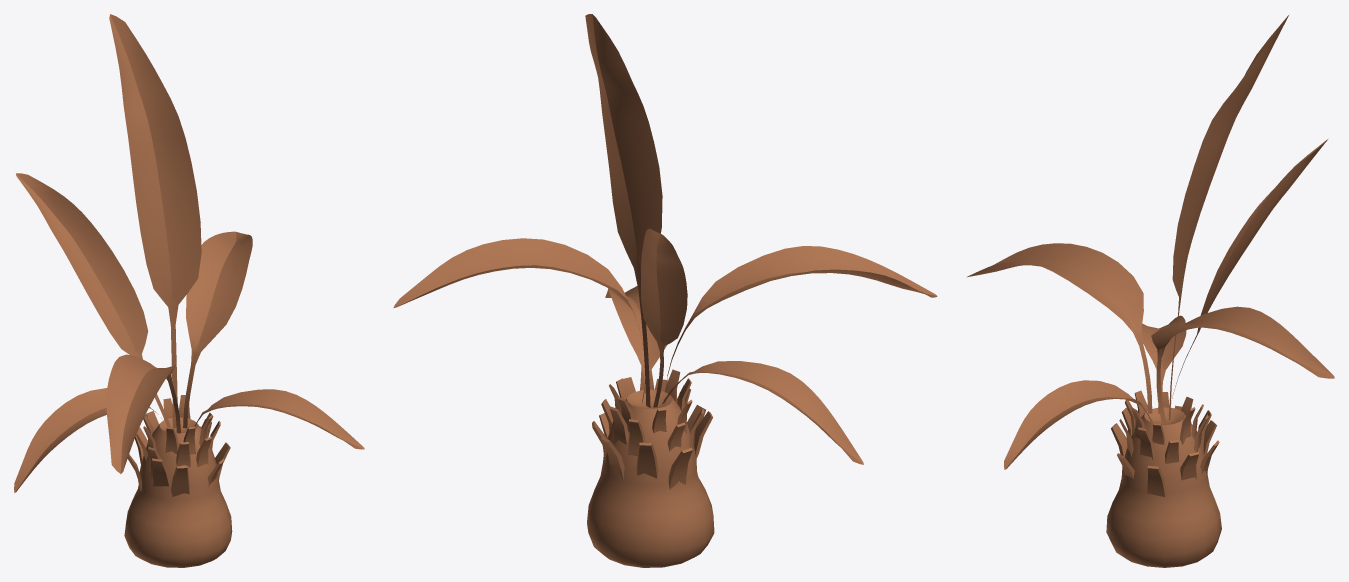
Rendered from Fern.fbx.
The picture shows the model from 3 angles, left to right: view 1: azimuth 30°, elevation 25°; view 2: azimuth 150°, elevation 25°; view 3: azimuth 270°, elevation 25°; orthographic projection. The views are drawn at different scales.
Visible parts, largest first — view 1: Fern_Base; view 2: Fern_Base; view 3: Fern_Base.
Part boxes in pixels (x1,y1,x2,y2): Fern_Base: (14, 14, 364, 567); Fern_Base: (393, 14, 937, 567); Fern_Base: (966, 15, 1334, 567).
Size of the model in its own units: 1.16 by 1.75 by 1.11.
